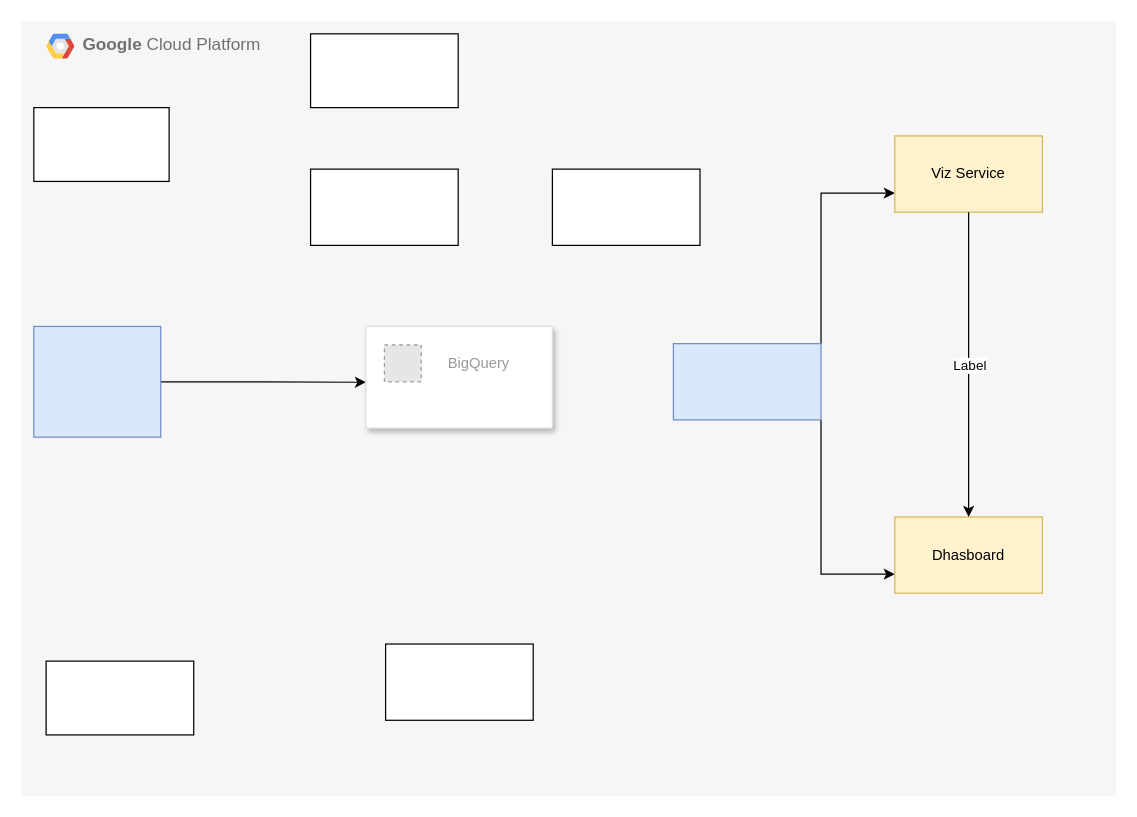
The diagram is 1137 pixels wide and 817 high, and some of its shapes have lost their labels. Grey dashed boxes stand in for pictures. Each missing label, with the centre of its shape:
ETL Layer: point (746, 381)
Event Ingestion: point (97, 381)
